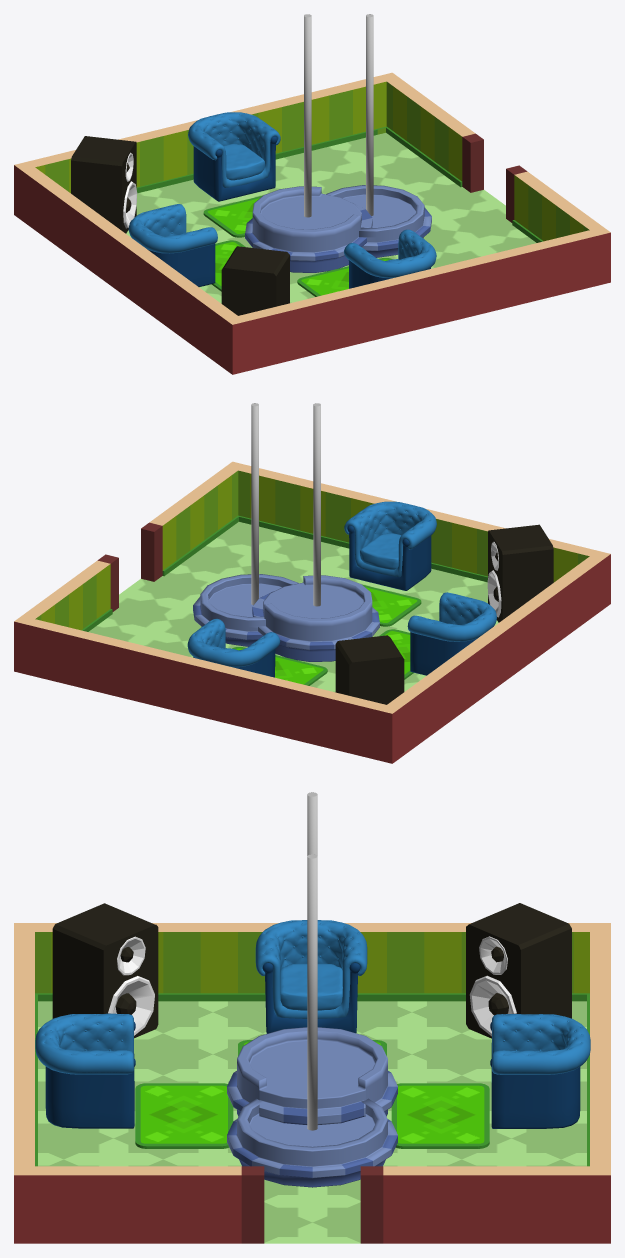
Rendered from VIP_Room_Lvl3_02a 1.fbx.
3 views of the same model, one above another, from view 1: azimuth 30°, elevation 25°; view 2: azimuth 150°, elevation 25°; view 3: azimuth 270°, elevation 25° (orthographic). The views are drawn at different scales.
Parts seen in each view (by area): view 1: Plane.007, Plane.016; view 2: Plane.007, Plane.016; view 3: Plane.007, Plane.016.
Part boxes in pixels (<box>): Plane.007: <box>14,72,610,374</box>; Plane.016: <box>71,14,436,315</box>; Plane.007: <box>14,461,610,763</box>; Plane.016: <box>187,403,553,704</box>; Plane.007: <box>14,923,610,1243</box>; Plane.016: <box>35,792,590,1187</box>.
Size of the model in its own units: 7.92 by 4.68 by 7.92.
Materials: 4 (3 with a texture image).
